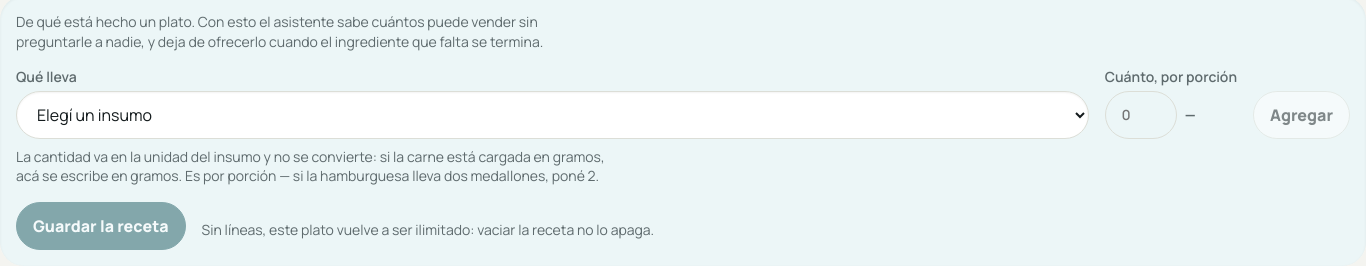
la cantidad va en la unidad del insumo › no hay dónde elegir unidad: la única lista es la de insumos, y el sufijo sigue al elegido
(page scrolled)
Expected: the text "—" is shown, [1185,105,1196,125]
Select "Pan de papa" in the dropdown at (552, 115), box [16,91,1089,139]
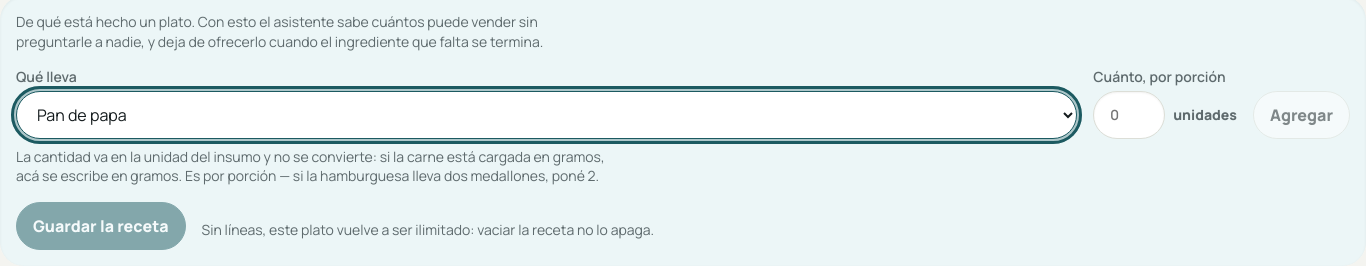
Expected: the text "unidades" is shown, [1173,105,1237,125]
Select "Carne picada" in the dropdown at (547, 115), box [16,91,1077,139]
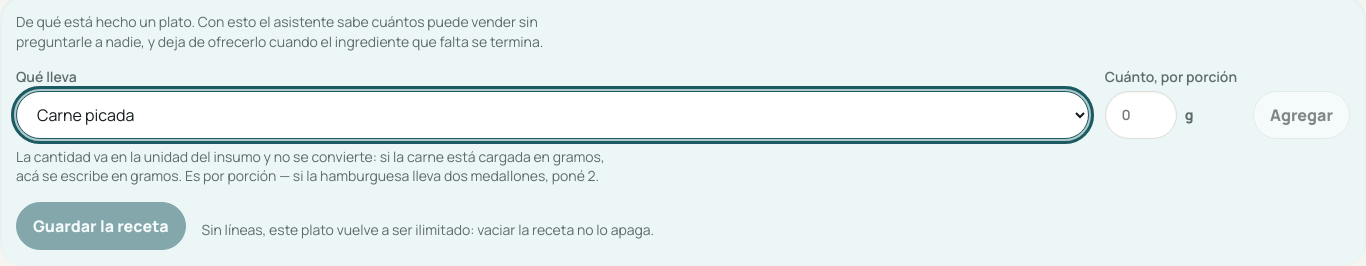
Expected: the text "g" is shown, [1185,105,1193,125]
